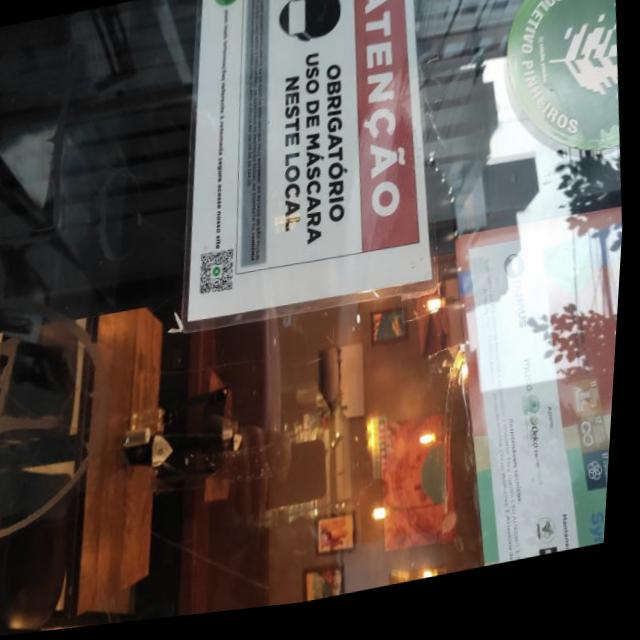qrcode: (200, 254, 239, 301)
